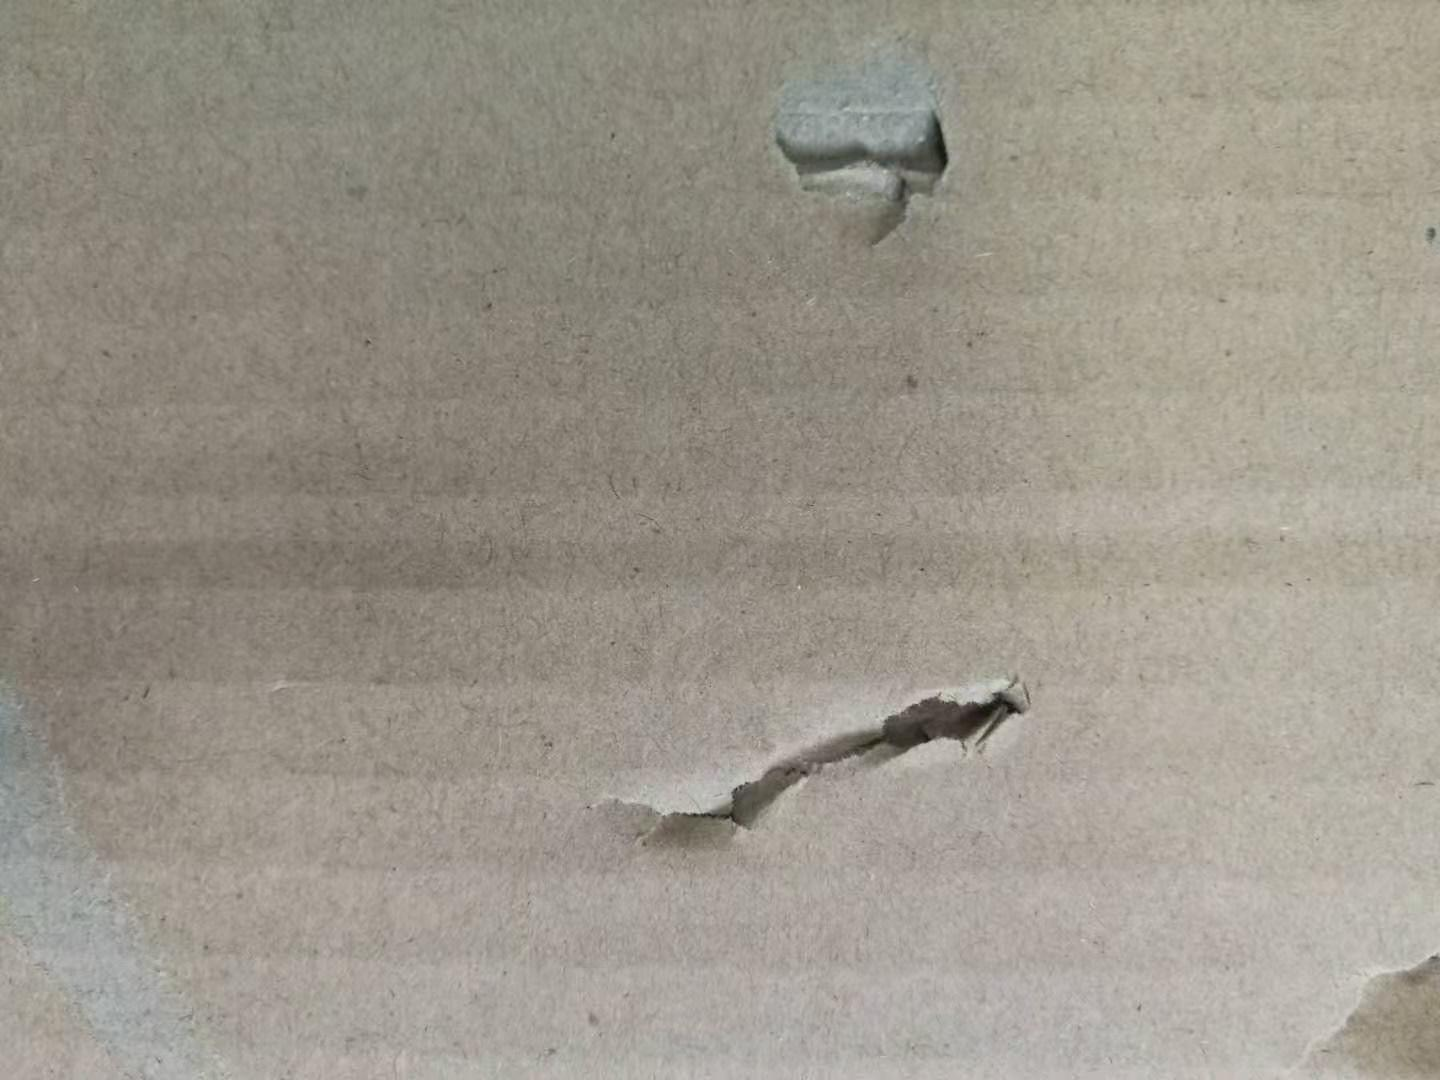defect: (559, 646, 1073, 900), (1, 665, 253, 1080), (729, 27, 1002, 279), (1243, 942, 1440, 1080)
